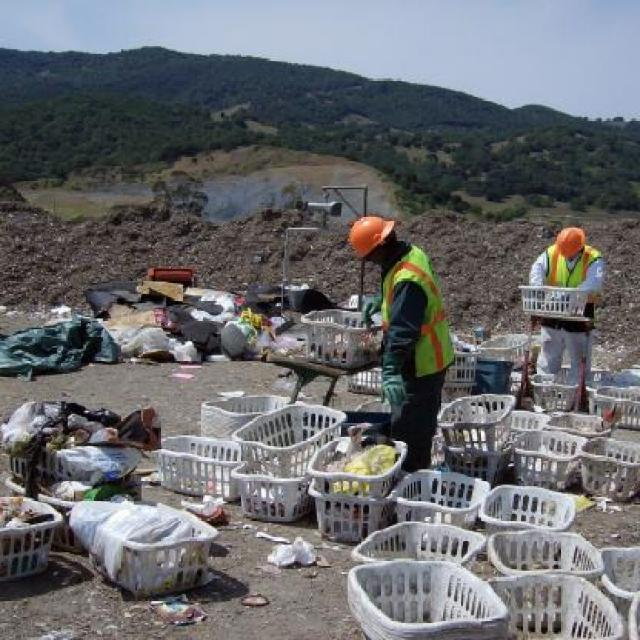garbage: (0, 393, 269, 626), (5, 265, 275, 379), (11, 183, 346, 260), (308, 423, 400, 538), (430, 218, 526, 280), (279, 275, 359, 322)
